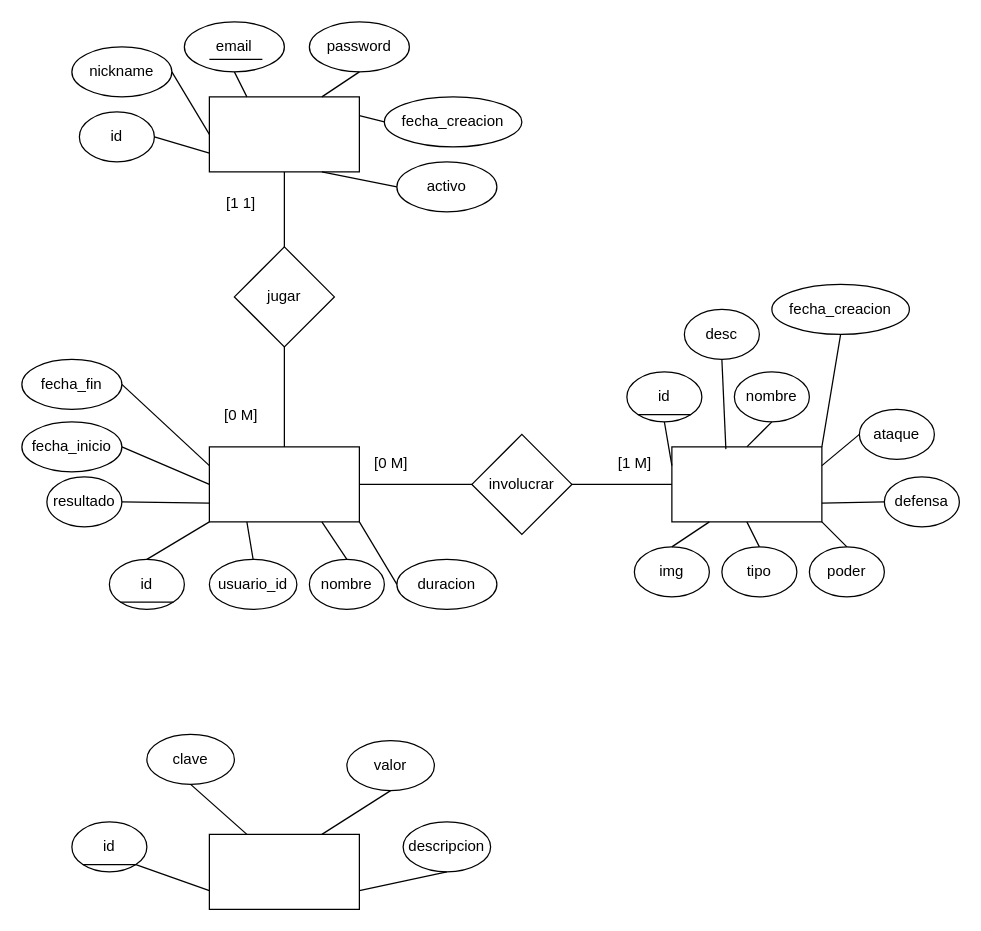
Image size: 981x931. Some labels were removed from this diagram. Here are the shapes that lost their labels. From the top down, the centre of each, then its label:
At [283,134]: "USUARIOS".
At [283,484]: "PARTIDAS".
At [746,484]: "CARTAS".
At [283,871]: "CONFIG".
